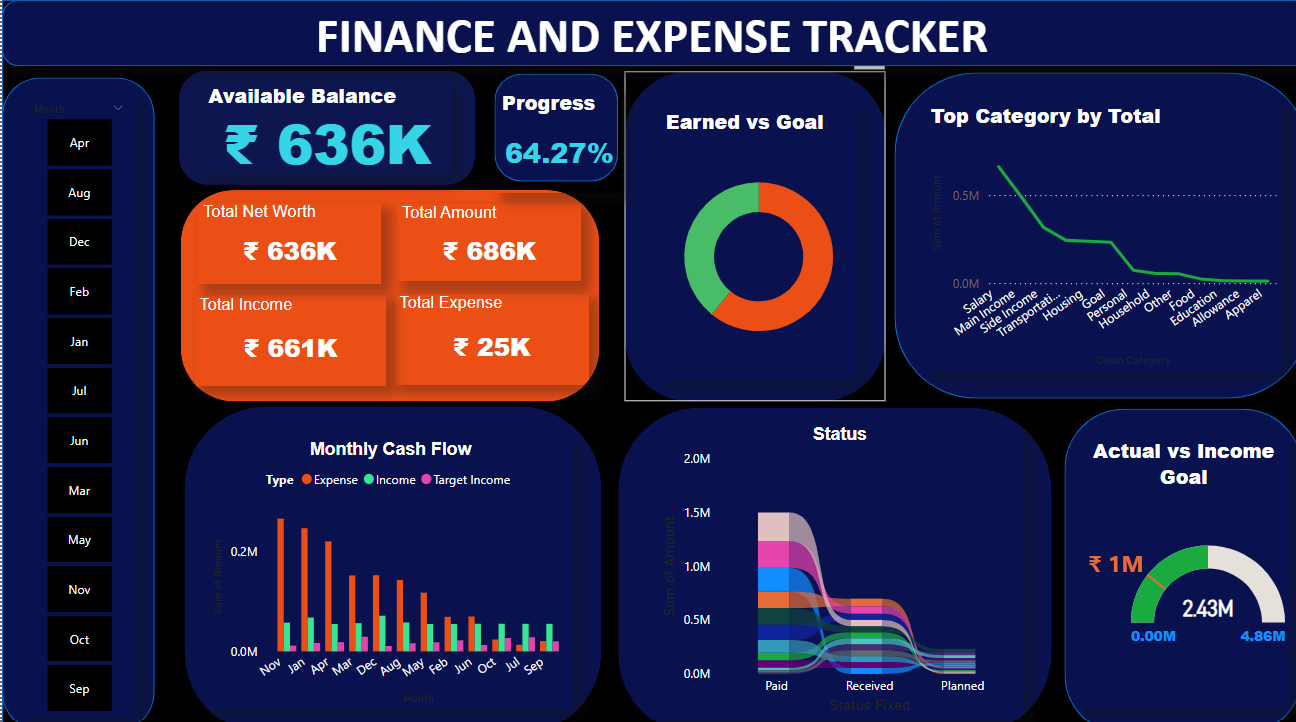

What the dashboard file says about the page in this screenshot:
{"tool":"powerbi","page":{"name":"Page 1","canvas":[1280,720],"ordinal":0},"visuals":[{"type":"shape","box":[0,0,1280,720],"z":0},{"type":"shape","box":[0,76.1,149.3,639.4],"z":1000},{"type":"slicer","fields":{"Values":["Final Dataset.Month"]},"box":[18.3,95.8,112.7,607],"z":2000},{"type":"shape","box":[178.4,397.1,408,321],"z":3000},{"type":"shape","box":[481.2,72.2,121.1,105.6],"z":4000},{"type":"shape","box":[174.6,185.5,409.9,207],"z":5000},{"type":"lineClusteredColumnComboChart","title":"Monthly Cash Flow","fields":{"Category":["Final Dataset.Month"],"Y":["Sum(Final Dataset.Amount)"],"Series":["Final Dataset.Type"]},"box":[200.4,429.1,359,265],"z":6000},{"type":"shape","box":[163.9,60.5,308,130],"z":7000},{"type":"card","title":"Available Balance","fields":{"Values":["All measures.Available Balance"]},"box":[196.9,79.5,242,91],"z":8000},{"type":"card","title":"Total Net Worth","fields":{"Values":["All measures.Total Net Worth"]},"box":[191.5,198.2,178.9,80.3],"z":9000},{"type":"card","title":"Total Expense","fields":{"Values":["All measures.Total Expenses"]},"box":[384.4,286.9,190.1,88.7],"z":10000},{"type":"card","title":"Total Income","fields":{"Values":["All measures.Total Income"]},"box":[188.7,288.3,187.3,88.7],"z":11000},{"type":"card","title":"Total Amount","fields":{"Values":["All measures.Total Amount"]},"box":[385.8,199.6,180.3,76.1],"z":12000},{"type":"shape","box":[608.8,69.2,256,323],"z":13000},{"type":"donutChart","title":"Earned vs Goal","fields":{"Y":["All measures.Income Remaining","All measures.Total Income"]},"box":[644.8,105.2,192,266],"z":14000},{"type":"card","title":"Progress","fields":{"Values":["All measures.Income % Achieved"]},"box":[484.1,86.3,122.5,101.4],"z":15000},{"type":"shape","box":[602.5,398.8,423.8,321.2],"z":16000},{"type":"shape","box":[1039,400.3,233,319],"z":17000},{"type":"shape","box":[0,0,1280,65],"z":18000},{"type":"shape","box":[873.2,70.7,406,319],"z":19000},{"type":"lineChart","title":"Top Category by Total","fields":{"Y":["Sum(Final Dataset.Amount)"],"Category":["Final Dataset.Clean Category"]},"box":[904.2,98.7,348.8,265],"z":20000},{"type":"gauge","title":"Actual vs Income Goal","fields":{"Y":["Sum(Final Dataset.Amount)"],"TargetValue":["All measures.Income Goal"]},"box":[1052,426.3,208.8,265],"z":21000},{"type":"textbox","box":[0,0,1280,65],"z":22000},{"type":"ribbonChart","title":"Status","fields":{"Category":["Final Dataset.Status Fixed"],"Y":["Sum(Final Dataset.Amount)"],"Series":["Final Dataset.Month"]},"box":[640,415,360,288.8],"z":23000}]}

Visuals, with their boxes in screenshot pixels (x1, y1, x2, y2), scaled from the page's 1280x720 canvas onto the 1296x722 screenshot:
shape: l=0, t=0, r=1295, b=721
shape: l=0, t=76, r=151, b=717
slicer - Final Dataset.Month: l=19, t=96, r=133, b=705
shape: l=181, t=398, r=594, b=720
shape: l=487, t=72, r=610, b=178
shape: l=177, t=186, r=592, b=394
"Monthly Cash Flow" lineClusteredColumnComboChart: l=203, t=430, r=566, b=696
shape: l=166, t=61, r=478, b=191
"Available Balance" card: l=199, t=80, r=444, b=171
"Total Net Worth" card: l=194, t=199, r=375, b=279
"Total Expense" card: l=389, t=288, r=582, b=377
"Total Income" card: l=191, t=289, r=381, b=378
"Total Amount" card: l=391, t=200, r=573, b=276
shape: l=616, t=69, r=876, b=393
"Earned vs Goal" donutChart: l=653, t=105, r=847, b=372
"Progress" card: l=490, t=87, r=614, b=188
shape: l=610, t=400, r=1039, b=721
shape: l=1052, t=401, r=1288, b=721
shape: l=0, t=0, r=1295, b=65
shape: l=884, t=71, r=1295, b=391
"Top Category by Total" lineChart: l=916, t=99, r=1269, b=365
"Actual vs Income Goal" gauge: l=1065, t=427, r=1277, b=693
textbox: l=0, t=0, r=1295, b=65
"Status" ribbonChart: l=648, t=416, r=1012, b=706
